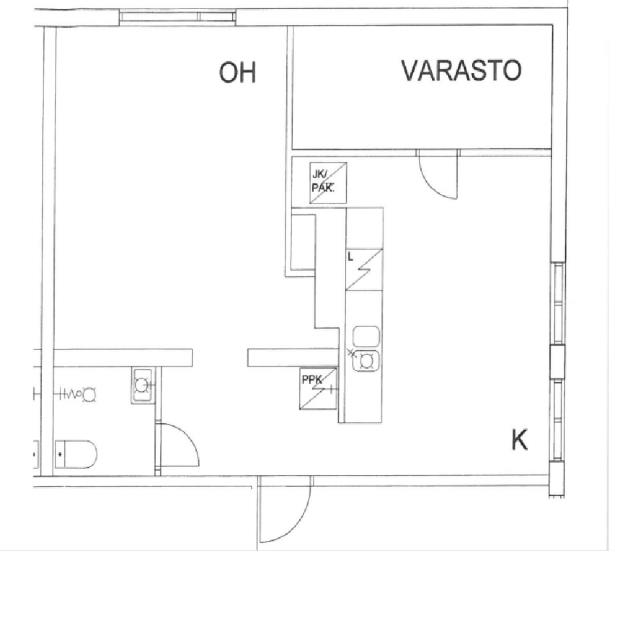door: (260, 475, 310, 543), (419, 149, 457, 200), (156, 424, 199, 466)
